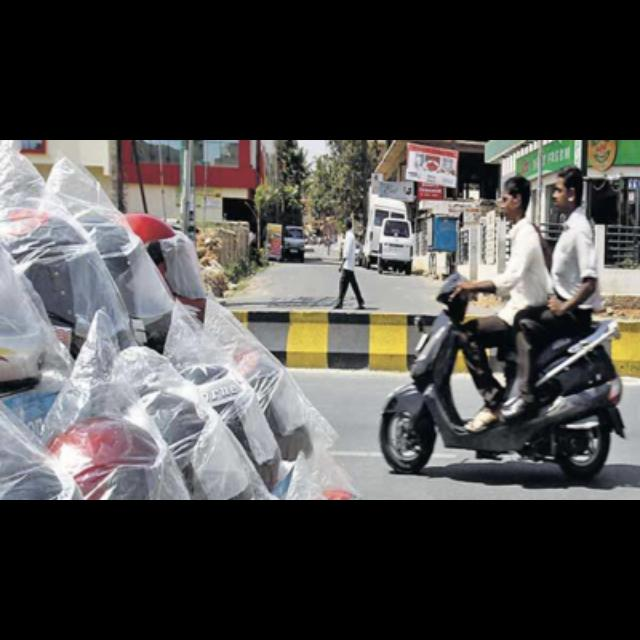Without Helmet: (497, 172, 531, 222)
